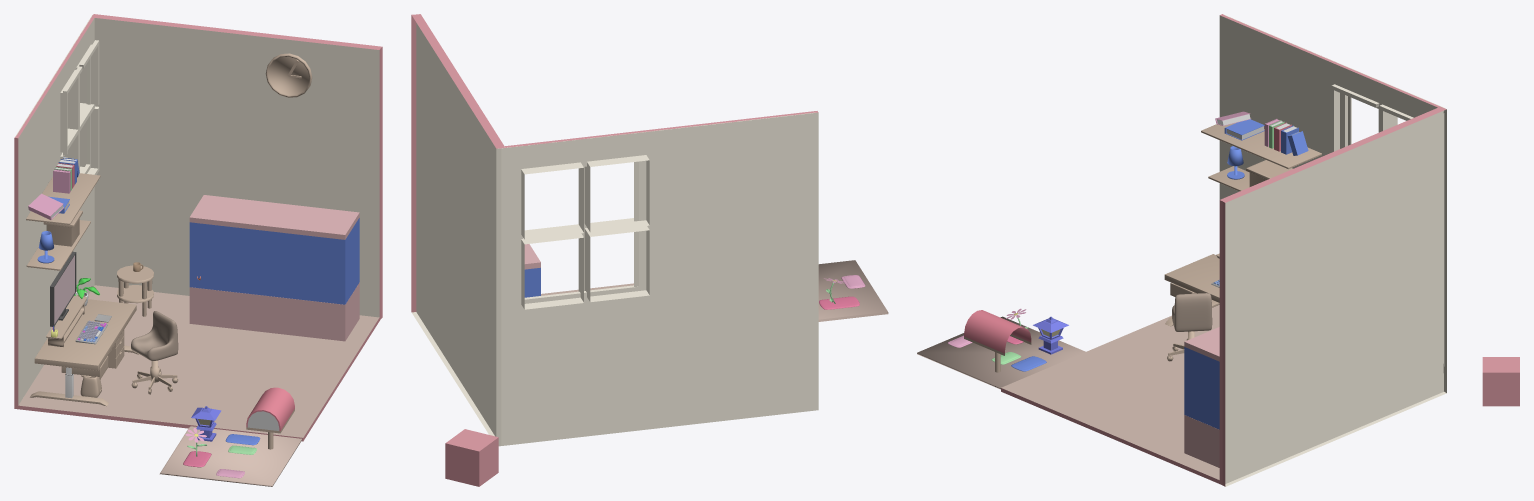
The model's file is Finale Version 9.glb.
3 views of the same model, side by side, from view 1: azimuth 30°, elevation 25°; view 2: azimuth 150°, elevation 25°; view 3: azimuth 270°, elevation 25° (orthographic). The views are drawn at different scales.
Parts seen in each view (by area): view 1: Body, Aquarium, Desks, Shelves, MiniFloor, TableStuff, Mailbox, Clock, Chair, FloorItems, computer, Lamp; view 2: Body, Cube, MiniFloor, Aquarium; view 3: Body, Shelves, Aquarium, MiniFloor, Cube, Mailbox, Desks, Chair, Lamp.
Part boxes in pixels (x1,y1,x2,y2): Body: (14, 14, 382, 441); Aquarium: (189, 195, 359, 341); Desks: (30, 265, 153, 406); Shelves: (26, 157, 100, 270); MiniFloor: (159, 426, 301, 486); TableStuff: (46, 262, 143, 346); Mailbox: (246, 387, 294, 449); Clock: (265, 53, 312, 97); Chair: (131, 311, 178, 360); FloorItems: (80, 330, 178, 397); computer: (50, 251, 76, 326); Lamp: (191, 406, 221, 441); Body: (411, 14, 818, 446); Cube: (445, 429, 498, 486); MiniFloor: (818, 260, 888, 321); Aquarium: (524, 244, 540, 297); Body: (1001, 14, 1446, 486); Shelves: (1201, 111, 1321, 191); Aquarium: (1184, 327, 1219, 467); MiniFloor: (917, 316, 1085, 389); Cube: (1482, 357, 1519, 406); Mailbox: (964, 310, 1031, 372); Desks: (1164, 254, 1219, 326); Chair: (1172, 293, 1212, 331); Lamp: (1033, 316, 1068, 354).
Size of the model in its own units: 23.97 by 17.22 by 32.32.
